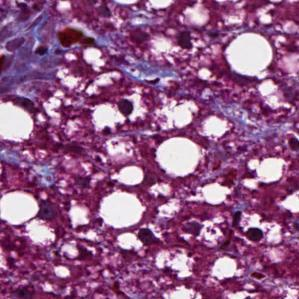steatosis: (225, 29, 277, 77), (153, 136, 203, 178), (98, 189, 145, 228), (0, 185, 40, 227)
